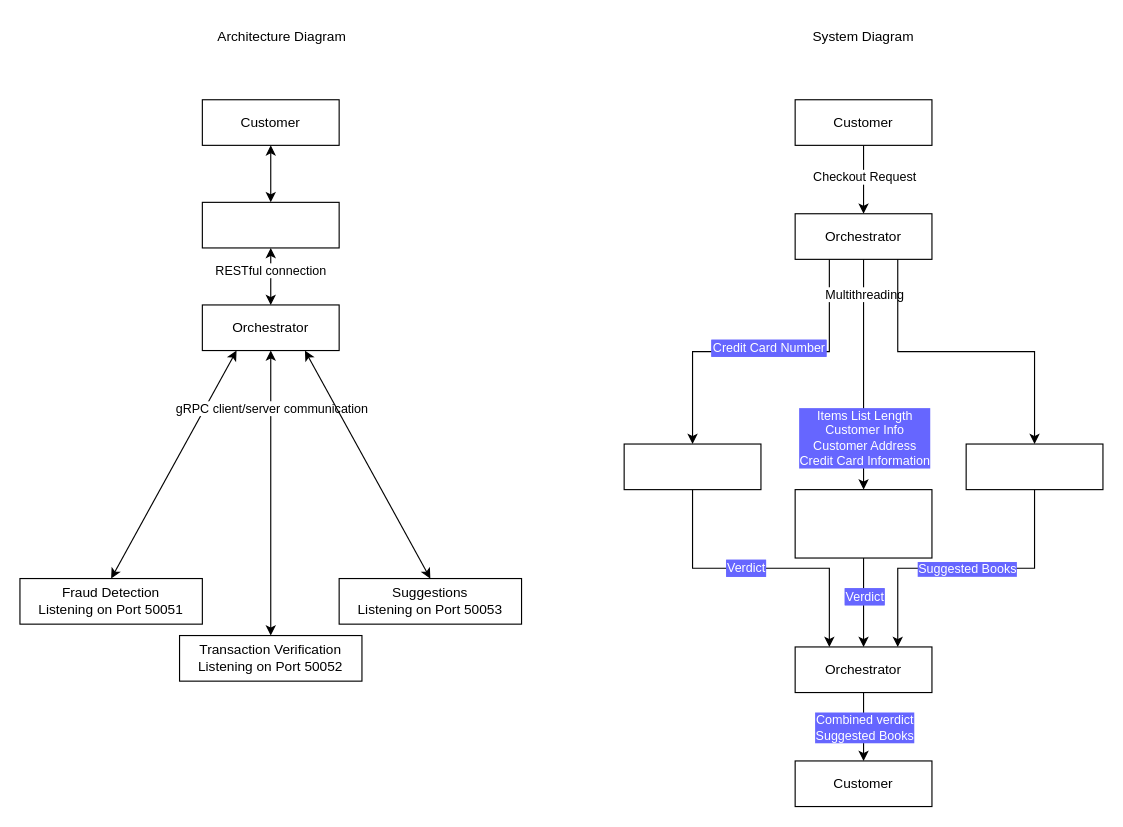
Image size: 1123x827. Some labels were removed from this diagram. Each missing label, with the centre of its shape:
Fraud Detection Microservice: [692,466]
Frontend: [270,224]
Suggestions Microservice: [1034,466]
Transaction Verification Microservice: [863,523]
